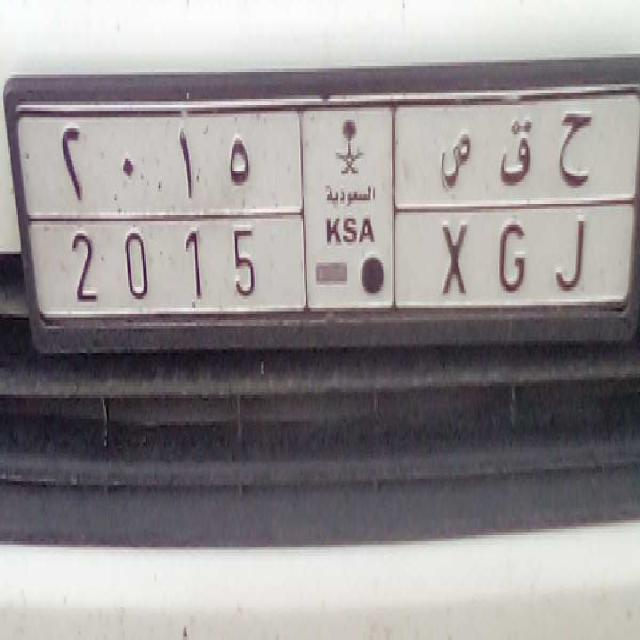license_plate: (22, 204, 631, 318)
